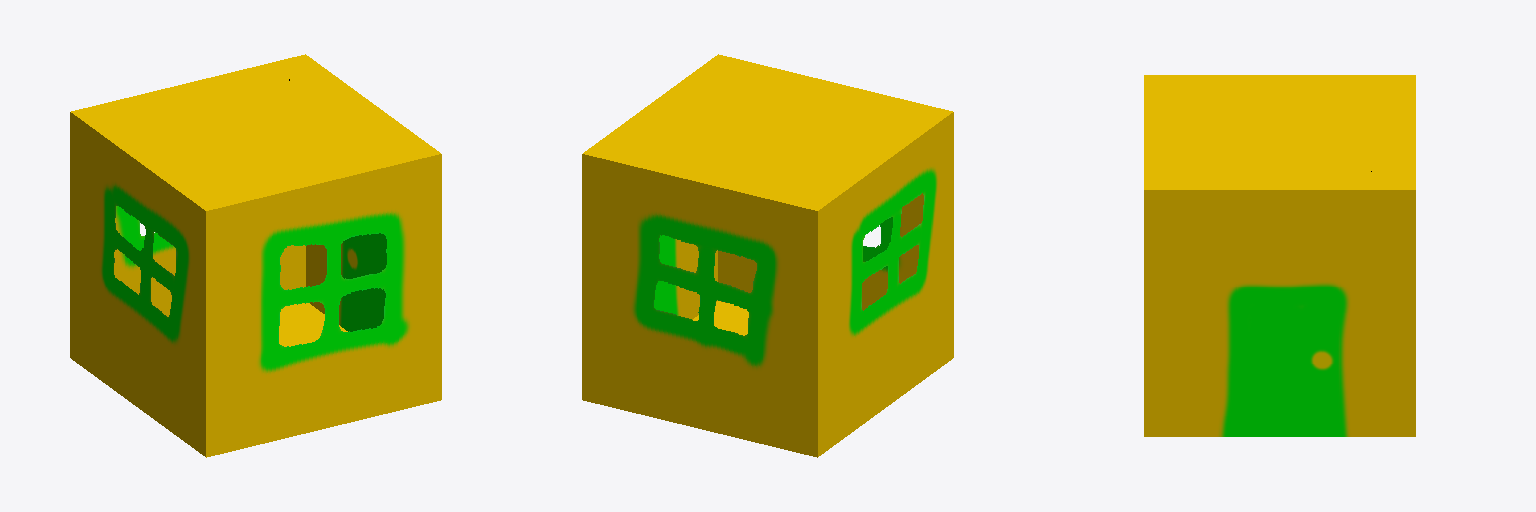
The picture shows the model from 3 angles: view 1: azimuth 30°, elevation 25°; view 2: azimuth 150°, elevation 25°; view 3: azimuth 270°, elevation 25°; orthographic projection.
Visible parts, largest first — view 1: Cube; view 2: Cube; view 3: Cube.
Part boxes in pixels (bbox=[...]): Cube: bbox=[70, 54, 441, 457]; Cube: bbox=[582, 54, 953, 457]; Cube: bbox=[1144, 75, 1415, 436].
Bounding box in the file's own units: 2 × 2 × 2.
1 materials, 1 textured.